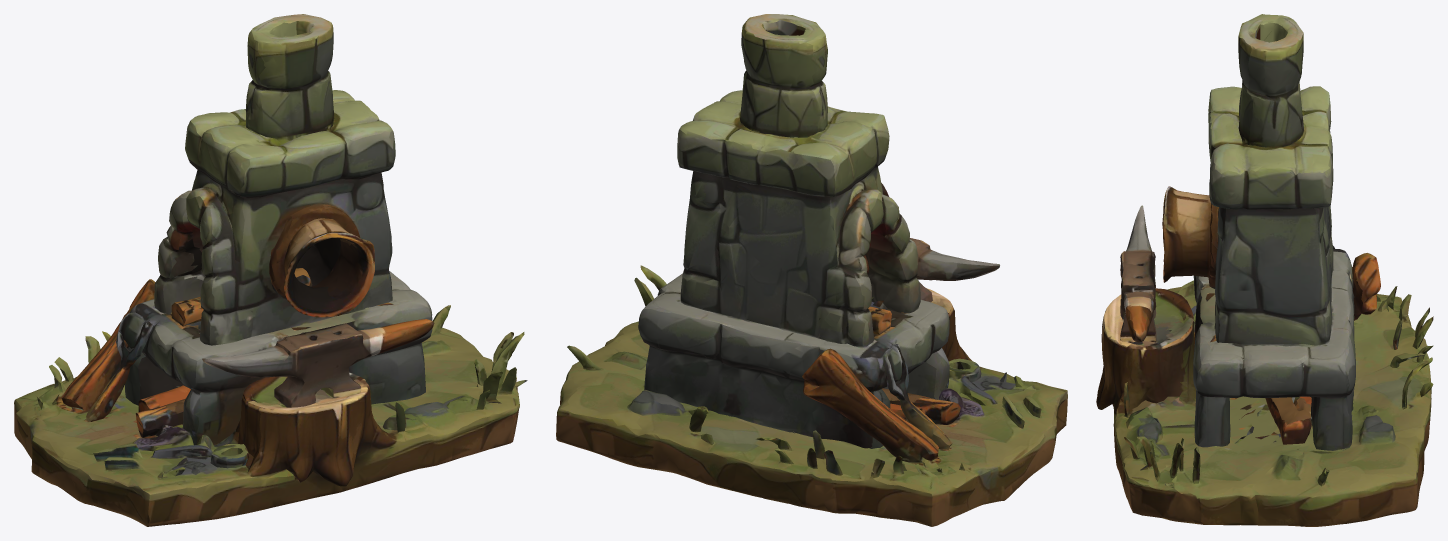
The model's file is struct_refining_forge.glb.
3 renders of one model, left to right at view 1: azimuth 30°, elevation 25°; view 2: azimuth 150°, elevation 25°; view 3: azimuth 270°, elevation 25°, orthographic.
Parts seen in each view (by area): view 1: struct_refining_forge; view 2: struct_refining_forge; view 3: struct_refining_forge.
Part boxes in pixels (left/top/right/bottom): struct_refining_forge: left=14, top=14, right=527, bottom=526; struct_refining_forge: left=556, top=14, right=1067, bottom=526; struct_refining_forge: left=1096, top=14, right=1433, bottom=526.
Size of the model in its own units: 1.8 by 1.62 by 1.2.
Materials: 1 (1 with a texture image).
